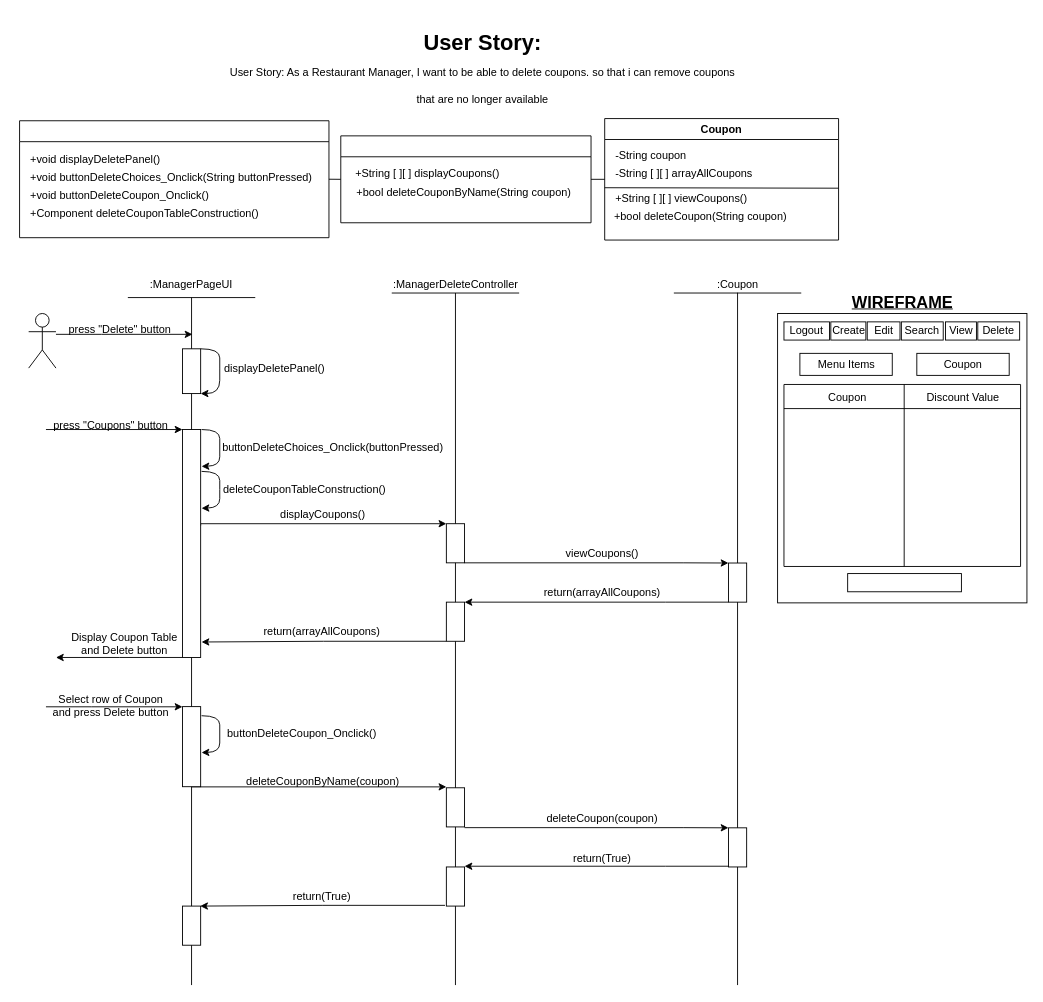
This 1043x1002 diagram has some shape labels left out. Here are the shapes that lost their labels. From the top down, the box of each, then its label:
(19, 120, 329, 238): ManagerPageUI
(340, 135, 591, 223): ManagerDeleteController
(28, 313, 56, 368): Restaurant Manager
(847, 573, 961, 592): Delete Coupon
